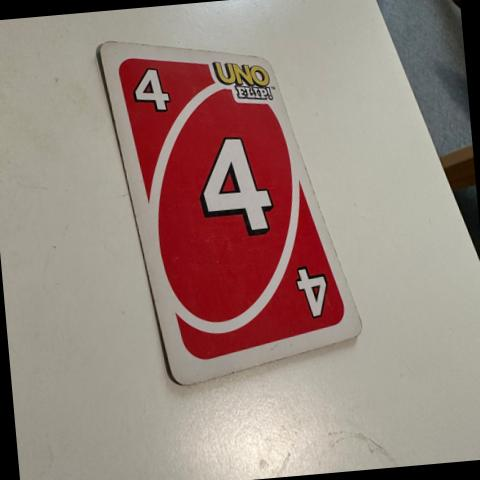lred-4: (118, 54, 186, 130)
